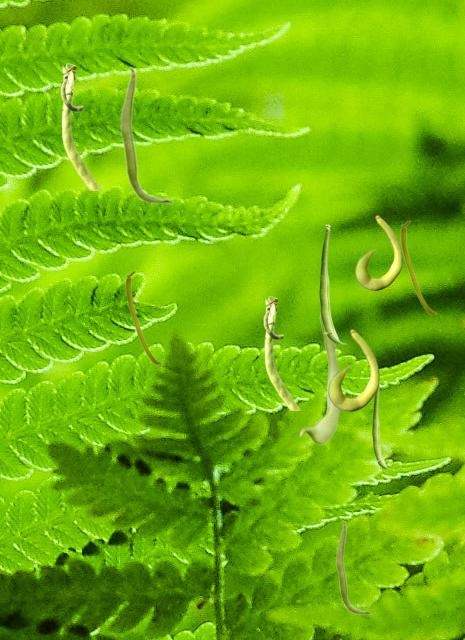french_bean: (119, 66, 173, 204), (299, 314, 340, 443), (60, 63, 100, 189), (263, 296, 299, 409), (328, 329, 378, 410), (355, 215, 401, 289), (400, 220, 436, 314), (125, 270, 161, 364), (335, 520, 371, 614), (319, 224, 346, 343), (372, 381, 391, 468)
